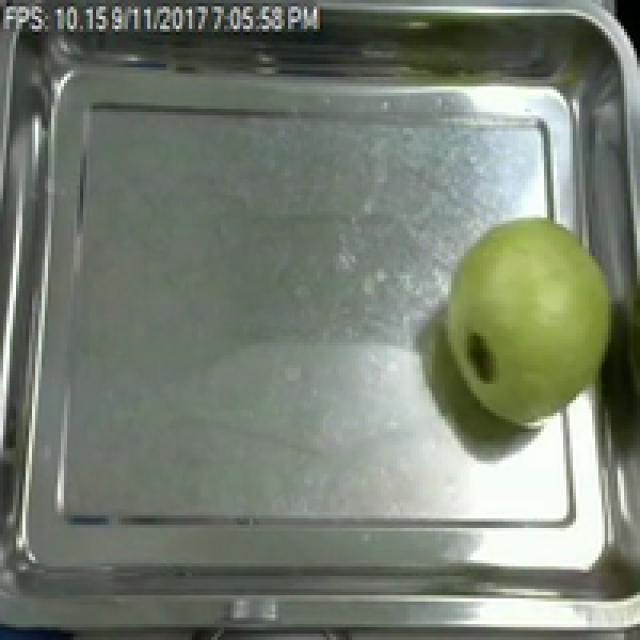Fruit: (420, 205, 630, 438)
